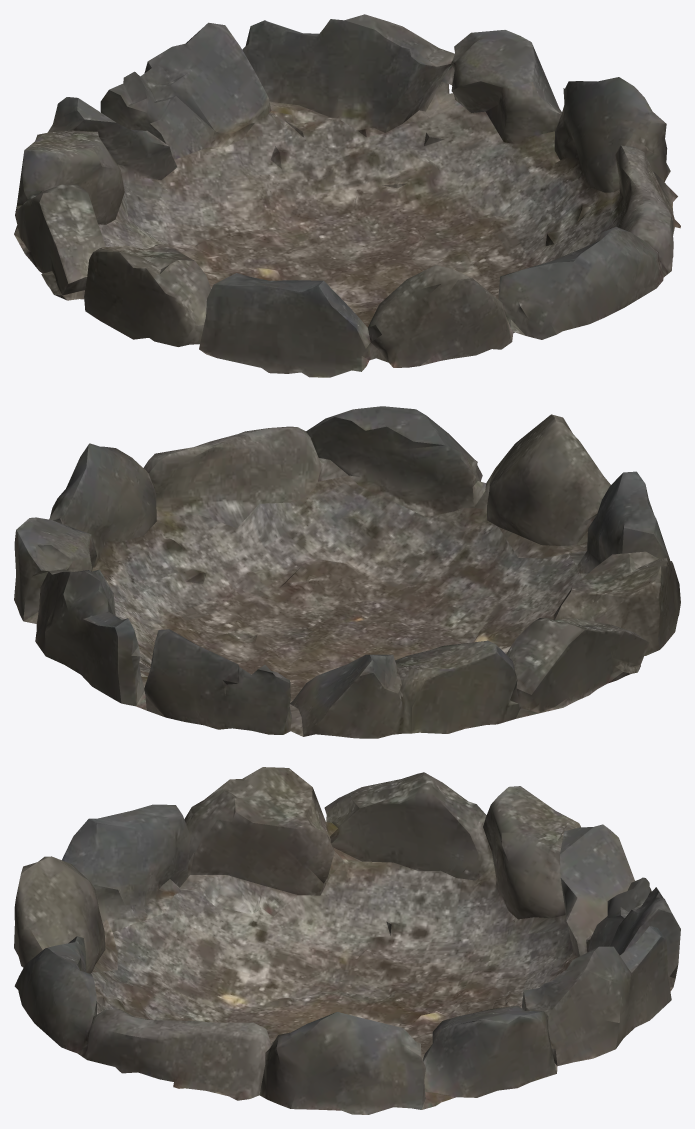
The model's file is fire_pit.glb.
The picture shows the model from 3 angles, top to bottom: view 1: azimuth 30°, elevation 25°; view 2: azimuth 150°, elevation 25°; view 3: azimuth 270°, elevation 25°; orthographic projection.
Parts seen in each view (by area): view 1: fire_pit; view 2: fire_pit; view 3: fire_pit.
Part boxes in pixels (x1,y1,x2,y2): fire_pit: [14, 14, 680, 377]; fire_pit: [14, 406, 680, 738]; fire_pit: [14, 767, 680, 1114].
Size of the model in its own units: 1.45 by 0.3864 by 1.43.
1 material, 1 textured.
